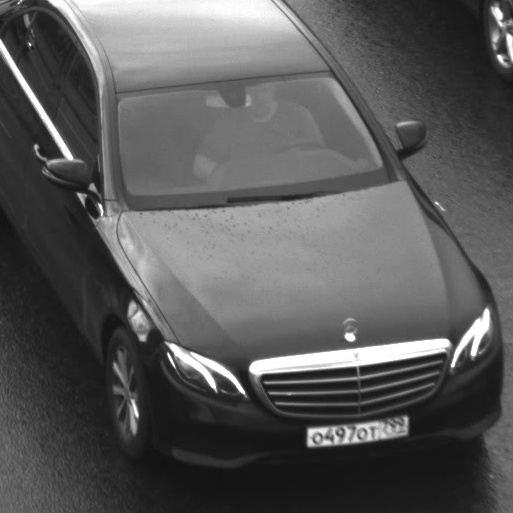plate: (295, 405, 416, 454)
